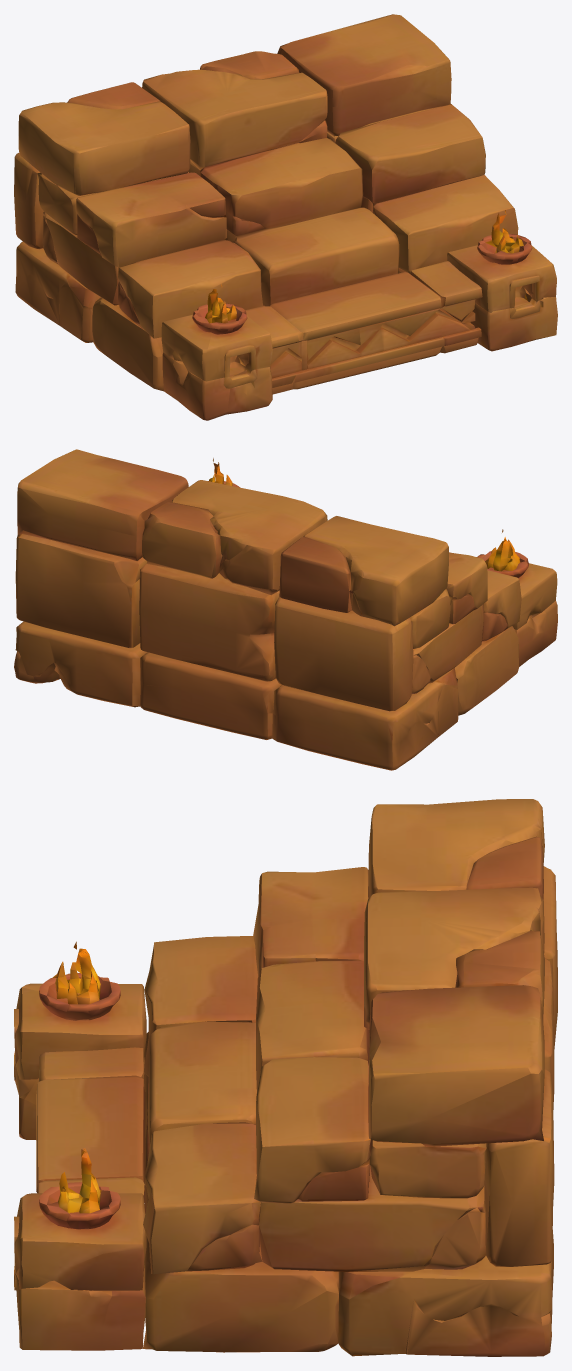
The model's file is desierto_grada.glb.
3 views of the same model, one above another, from view 1: azimuth 30°, elevation 25°; view 2: azimuth 150°, elevation 25°; view 3: azimuth 270°, elevation 25° (orthographic). The views are drawn at different scales.
Visible parts, largest first — view 1: tripo_node_ad3d4e7e-ba24-41d5-85cf-e7b554be790b; view 2: tripo_node_ad3d4e7e-ba24-41d5-85cf-e7b554be790b; view 3: tripo_node_ad3d4e7e-ba24-41d5-85cf-e7b554be790b.
Part boxes in pixels (x1,y1,x2,y2): tripo_node_ad3d4e7e-ba24-41d5-85cf-e7b554be790b: (14, 14, 557, 420); tripo_node_ad3d4e7e-ba24-41d5-85cf-e7b554be790b: (14, 449, 557, 770); tripo_node_ad3d4e7e-ba24-41d5-85cf-e7b554be790b: (14, 799, 557, 1356).
Bounding box in the file's own units: 0.9995 × 0.4873 × 0.815.
Materials: 1 (1 with a texture image).
